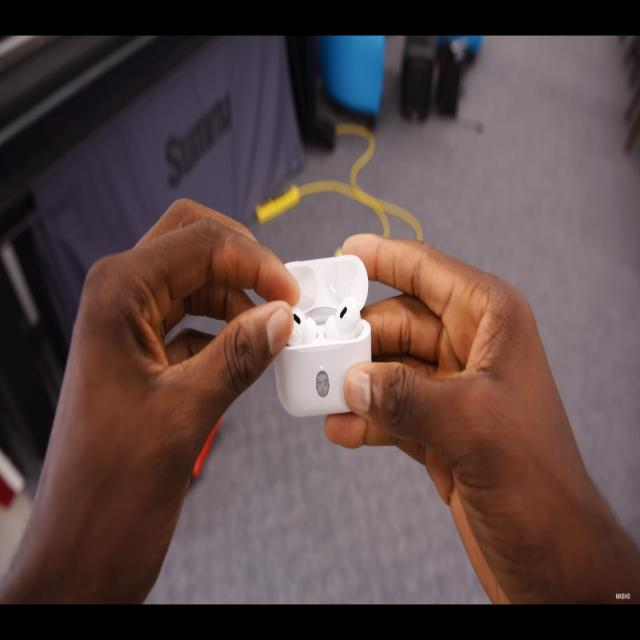airpods: (270, 251, 373, 420)
